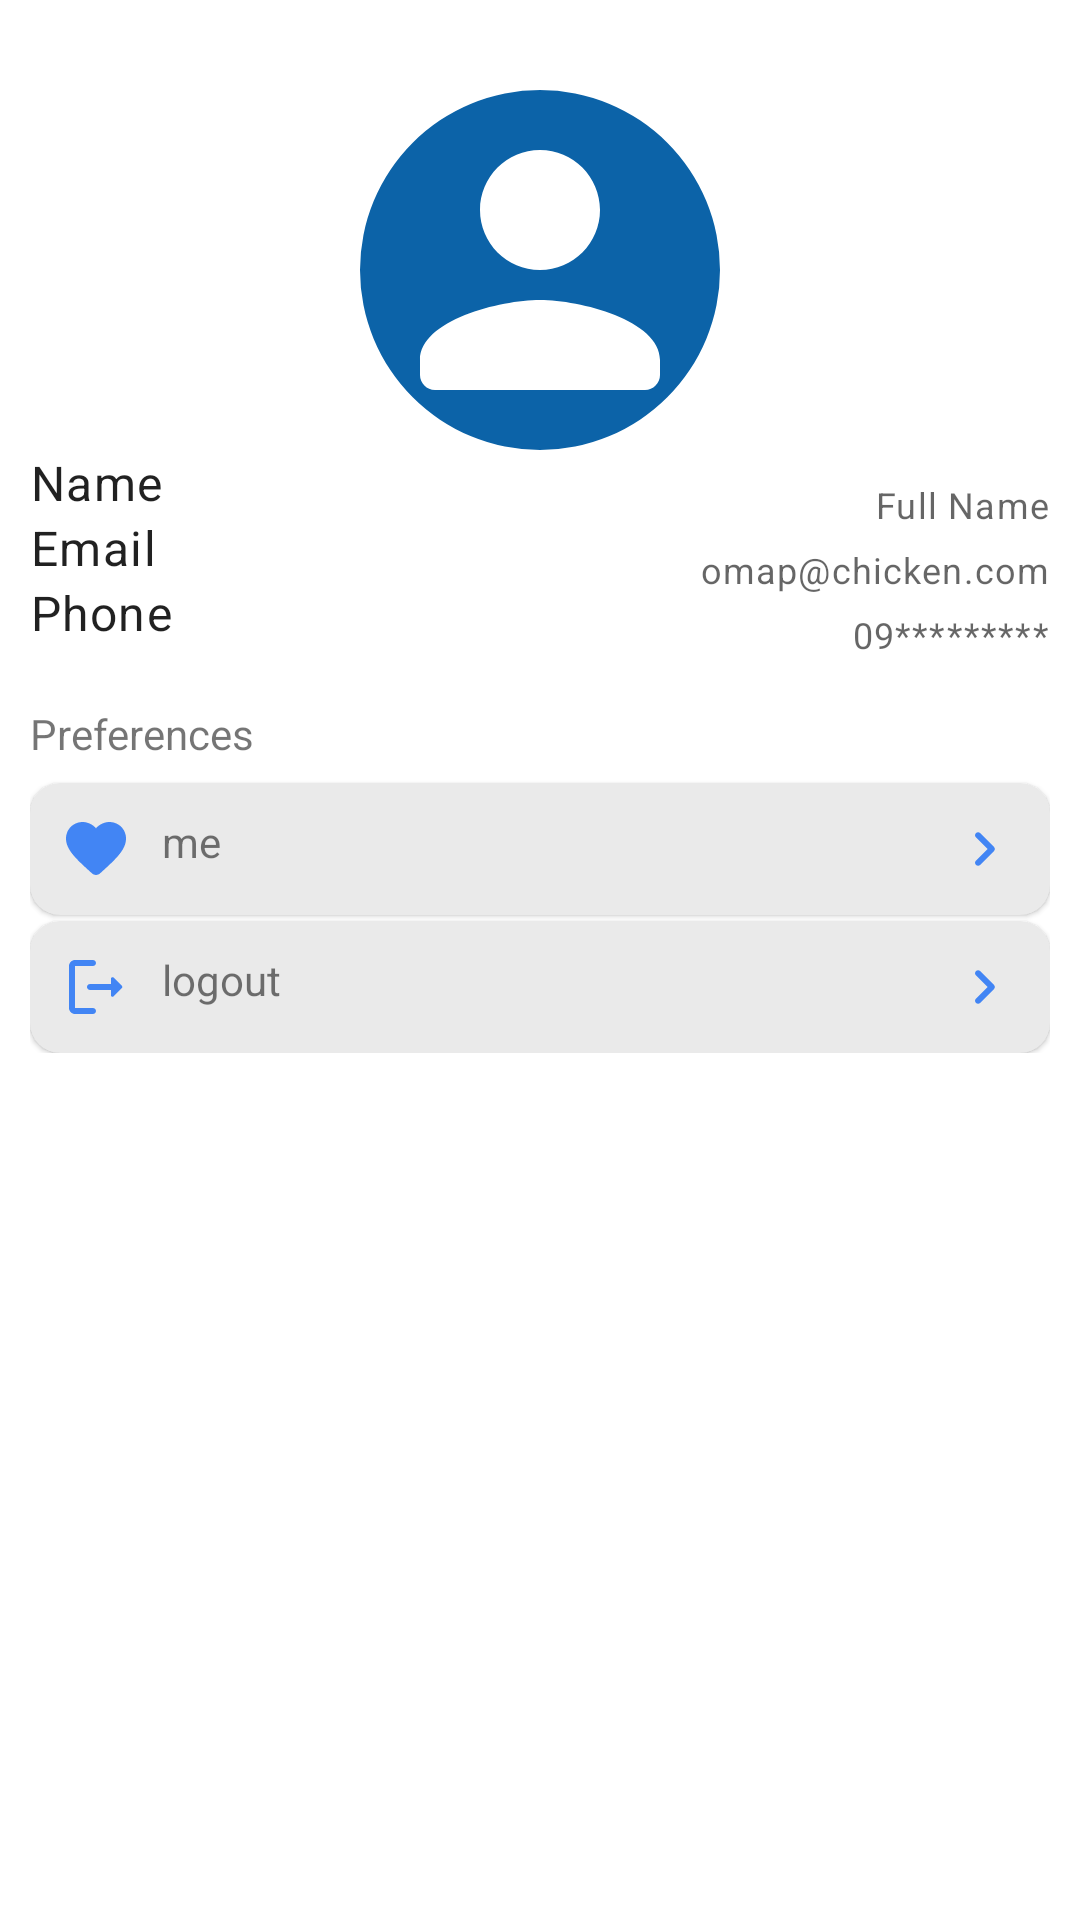

Screen size 1080*1920. Icon name, then its center in pixels as (x=x, y=y):
person: (x=540, y=270)
